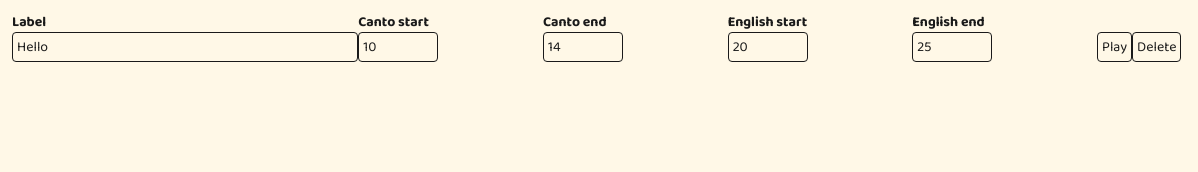
Test: SegmentTable › shows an inline error and keeps the typed value when a save fails
The width and height of the screenshot is (1198, 172).
Replace the text in the 2nd number field showing "14" with "16" at [583, 47], box [543,32,623,62]
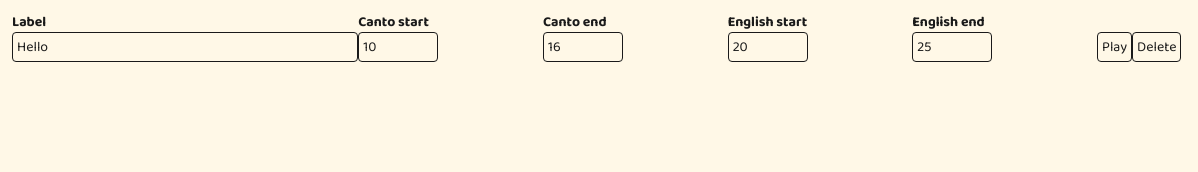
Leave the 2nd number field showing "14", box [543,32,623,62]
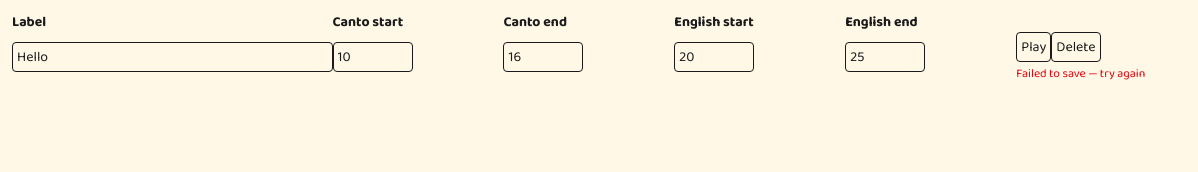
Result: the message shows "Failed to save" at [1016,64,1145,83]
